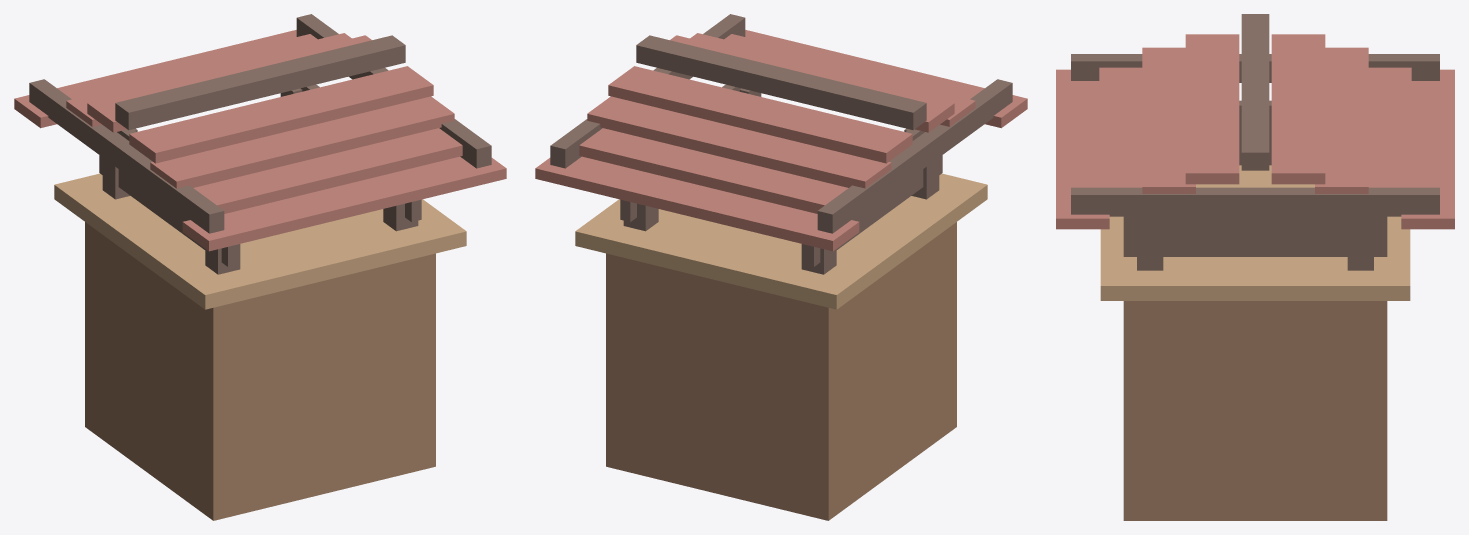
Rendered from watchtower_wood_4m.glb.
3 renders of one model, left to right at view 1: azimuth 30°, elevation 25°; view 2: azimuth 150°, elevation 25°; view 3: azimuth 270°, elevation 25°, orthographic. The views are drawn at different scales.
Parts seen in each view (by area): view 1: wood, roof_red, wood_dark, wood_light; view 2: wood, roof_red, wood_dark, wood_light; view 3: wood, roof_red, wood_dark, wood_light.
Part boxes in pixels (bbox=[...]): wood: bbox=[85, 222, 435, 520]; roof_red: bbox=[14, 30, 506, 251]; wood_dark: bbox=[29, 14, 491, 274]; wood_light: bbox=[54, 173, 466, 309]; wood: bbox=[606, 222, 956, 520]; roof_red: bbox=[535, 30, 1027, 251]; wood_dark: bbox=[550, 14, 1012, 274]; wood_light: bbox=[575, 173, 987, 309]; wood: bbox=[1123, 301, 1387, 520]; roof_red: bbox=[1056, 34, 1454, 229]; wood_dark: bbox=[1071, 14, 1439, 270]; wood_light: bbox=[1100, 165, 1410, 300].
Bounding box in the file's own units: 5.35 × 6.4 × 6.05.
